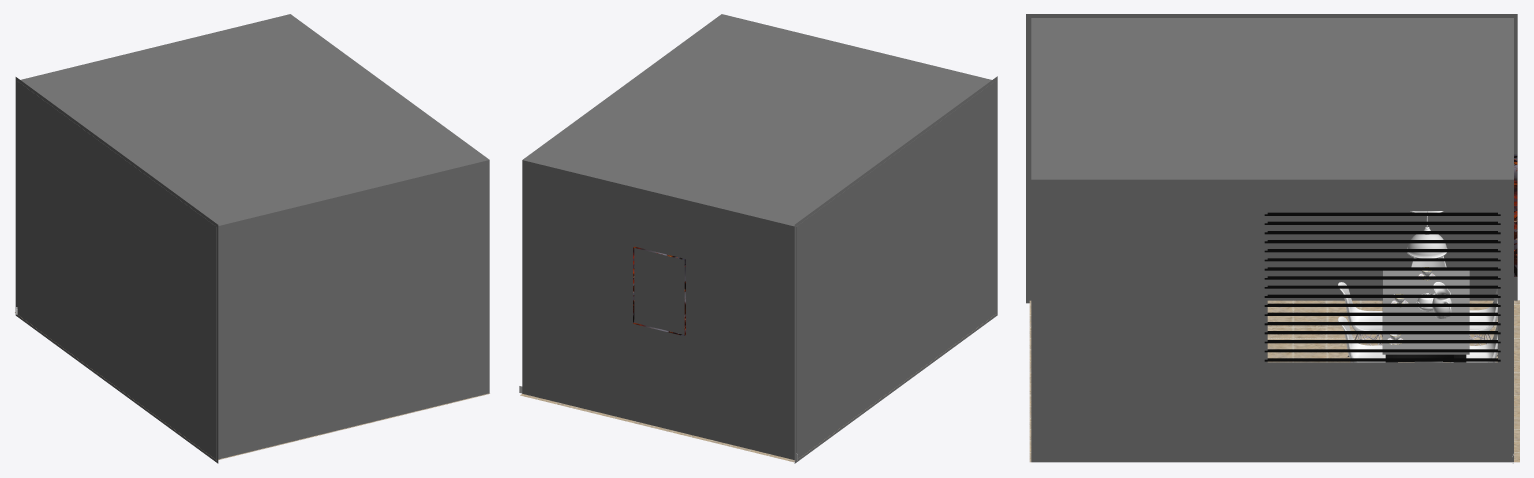
File: sala-pranzo.glb
3 views of the same model, side by side, from view 1: azimuth 30°, elevation 25°; view 2: azimuth 150°, elevation 25°; view 3: azimuth 270°, elevation 25° (orthographic). The views are drawn at different scales.
Visible parts, largest first — view 1: 39_Walls, 52_Walls; view 2: 39_Walls, 52_Walls, 38_FloorTiles, 50_Artwork; view 3: 39_Walls, 52_Walls, 06_None, 38_FloorTiles, 37_WhiteMarble, 28_WhitePlastic, 25_WhitePlastic, 00_FrostedGlass.
Boxes of the visible parts, box(x1,y1,x2,y2) form: 39_Walls: box(21, 14, 489, 459); 52_Walls: box(15, 77, 218, 463); 39_Walls: box(522, 14, 991, 460); 52_Walls: box(794, 76, 997, 463); 38_FloorTiles: box(520, 317, 991, 462); 50_Artwork: box(633, 246, 685, 335); 39_Walls: box(1031, 18, 1513, 462); 52_Walls: box(1026, 14, 1517, 303); 06_None: box(1264, 212, 1500, 361); 38_FloorTiles: box(1029, 300, 1519, 462); 37_WhiteMarble: box(1382, 270, 1469, 354); 28_WhitePlastic: box(1338, 316, 1385, 362); 25_WhitePlastic: box(1338, 282, 1382, 330); 00_FrostedGlass: box(1407, 234, 1446, 257).
Size of the model in its own units: 11.62 by 9.55 by 14.76.
Materials: 15 (3 with a texture image).
